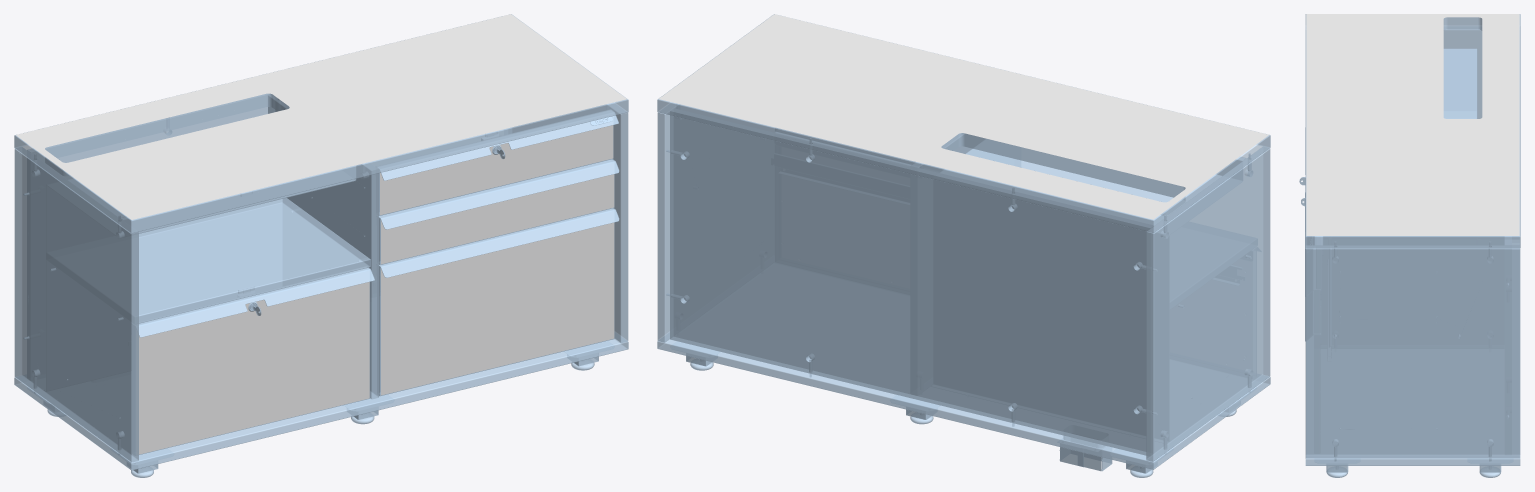
Rendered from LKAL170000_DER_120.glb.
3 views of the same model, side by side, from view 1: azimuth 30°, elevation 25°; view 2: azimuth 150°, elevation 25°; view 3: azimuth 270°, elevation 25° (orthographic). The views are drawn at different scales.
Visible parts, largest first — view 1: 4 (×4), 75, 76, 68, 70, 79; view 2: 4 (×4), 75, 80; view 3: 4 (×4), 75.
Part boxes in pixels (bbox=[...]): 4 (×4): bbox=[14, 14, 628, 470]; 75: bbox=[56, 166, 356, 317]; 76: bbox=[379, 159, 619, 229]; 68: bbox=[376, 109, 618, 180]; 70: bbox=[379, 208, 619, 277]; 79: bbox=[139, 267, 374, 337]; 4 (×4): bbox=[657, 14, 1270, 469]; 75: bbox=[940, 139, 1245, 412]; 80: bbox=[1058, 440, 1112, 471]; 4 (×4): bbox=[1305, 14, 1520, 465]; 75: bbox=[1443, 48, 1477, 118].
Size of the model in its own units: 1.23 by 0.643 by 0.5142.
